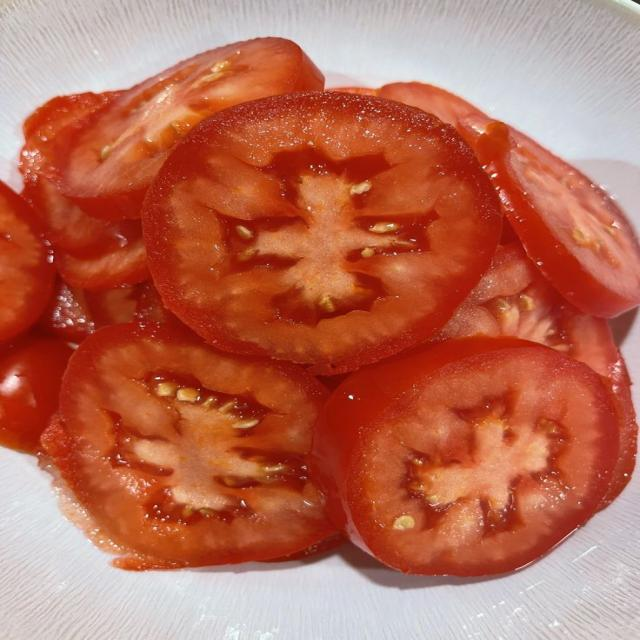sliced_tomato: (144, 92, 501, 374), (313, 338, 617, 575), (43, 324, 334, 568), (433, 243, 637, 507), (59, 38, 323, 219), (464, 117, 639, 317), (20, 93, 147, 289), (22, 179, 135, 258), (0, 183, 54, 341), (0, 336, 73, 452), (55, 221, 149, 290), (40, 280, 141, 342), (376, 82, 486, 136), (377, 82, 484, 129), (267, 534, 346, 562), (134, 280, 181, 324), (327, 87, 378, 95)
